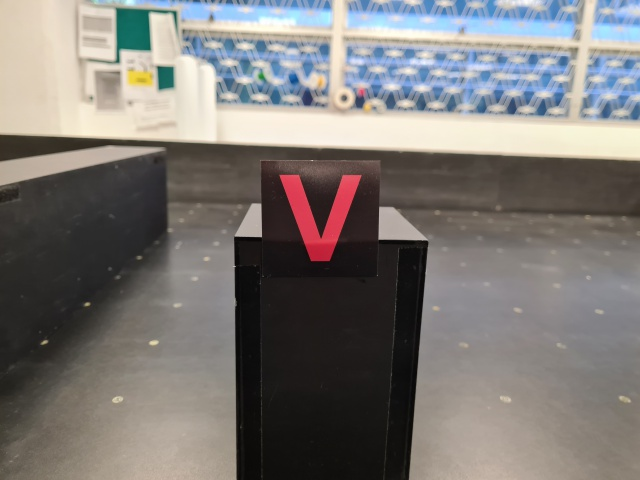alphabet_v: (261, 159, 382, 281)
